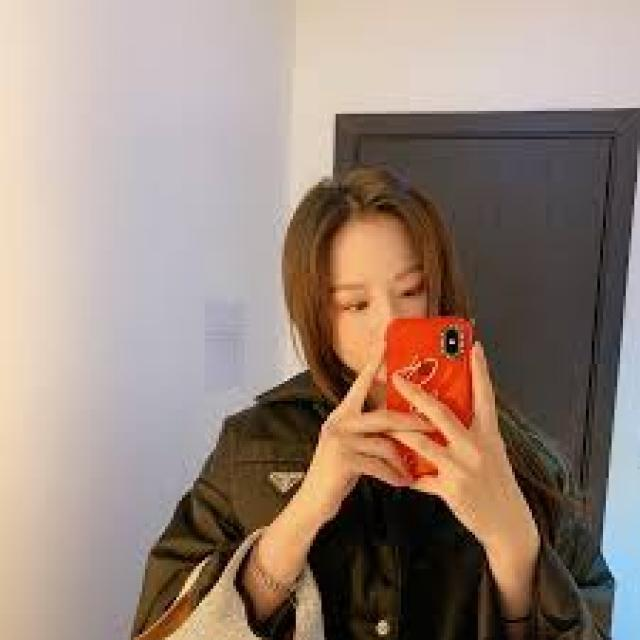Phone: (378, 312, 477, 485)
